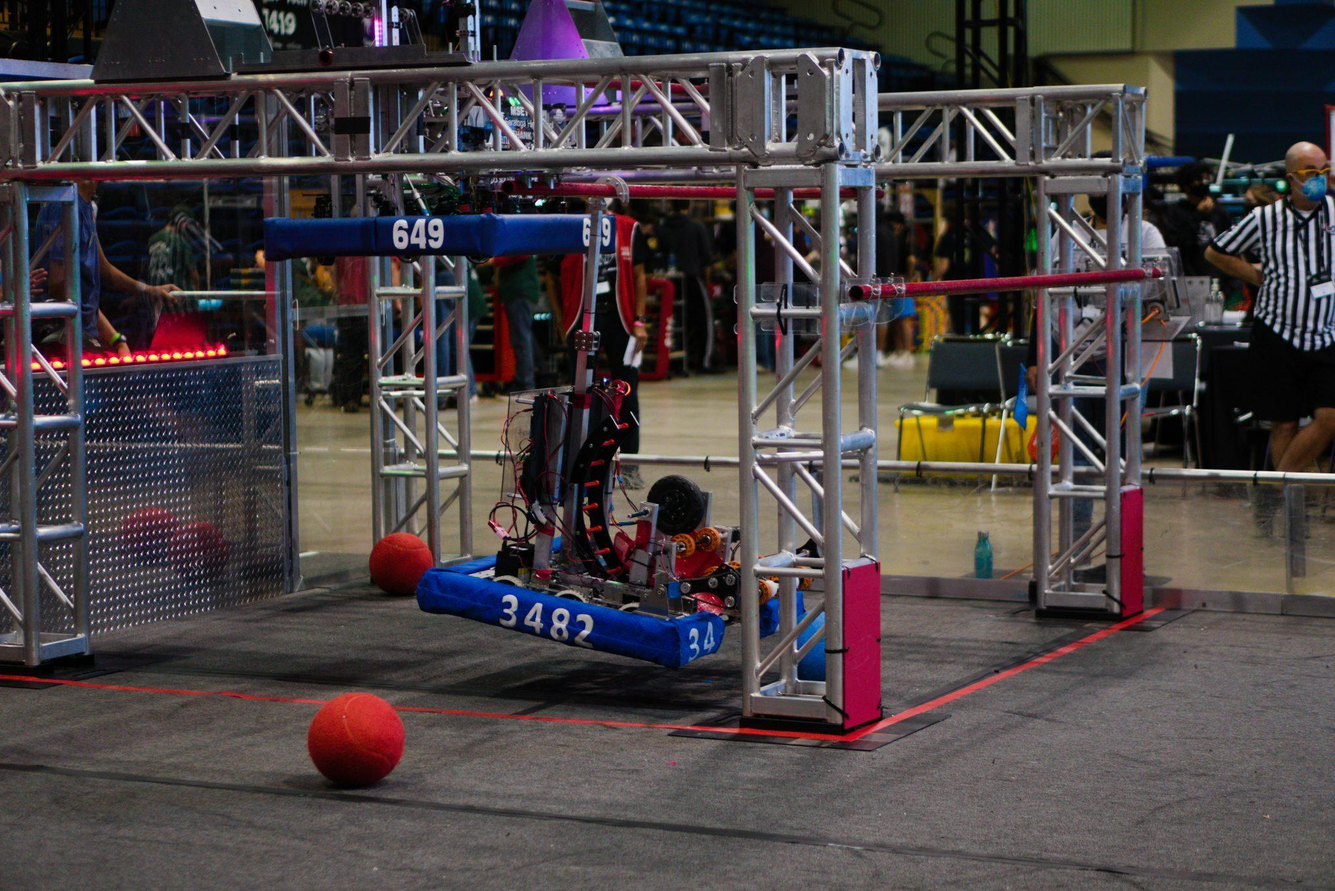robot: (408, 166, 823, 667), (245, 106, 631, 263)
